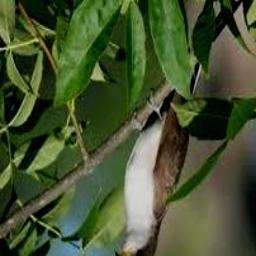Cuckoo: (114, 48, 207, 256)
